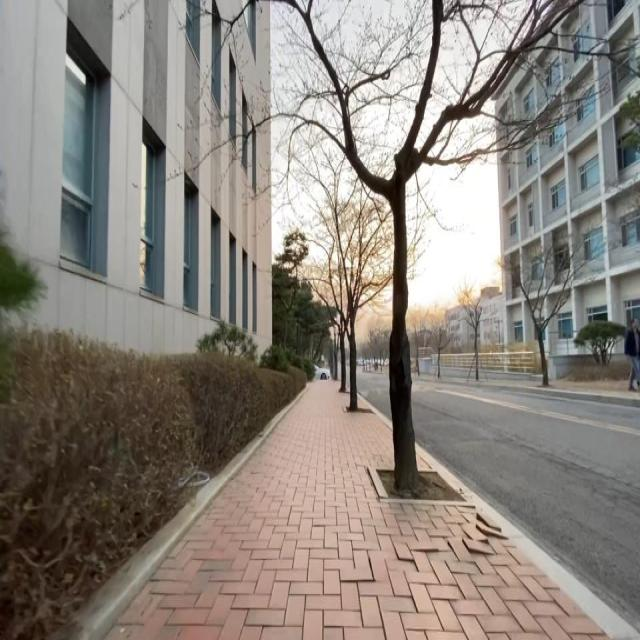sidewalk: (104, 381, 640, 640), (474, 379, 640, 400)
